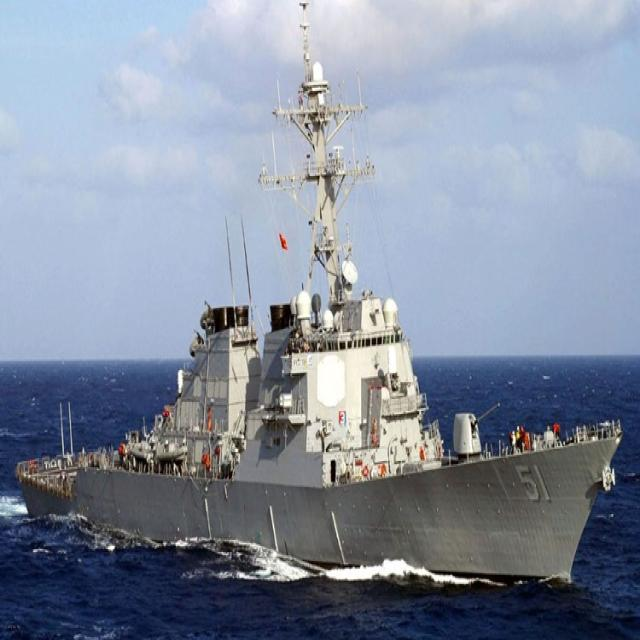navalvessels: (15, 66, 621, 594)
